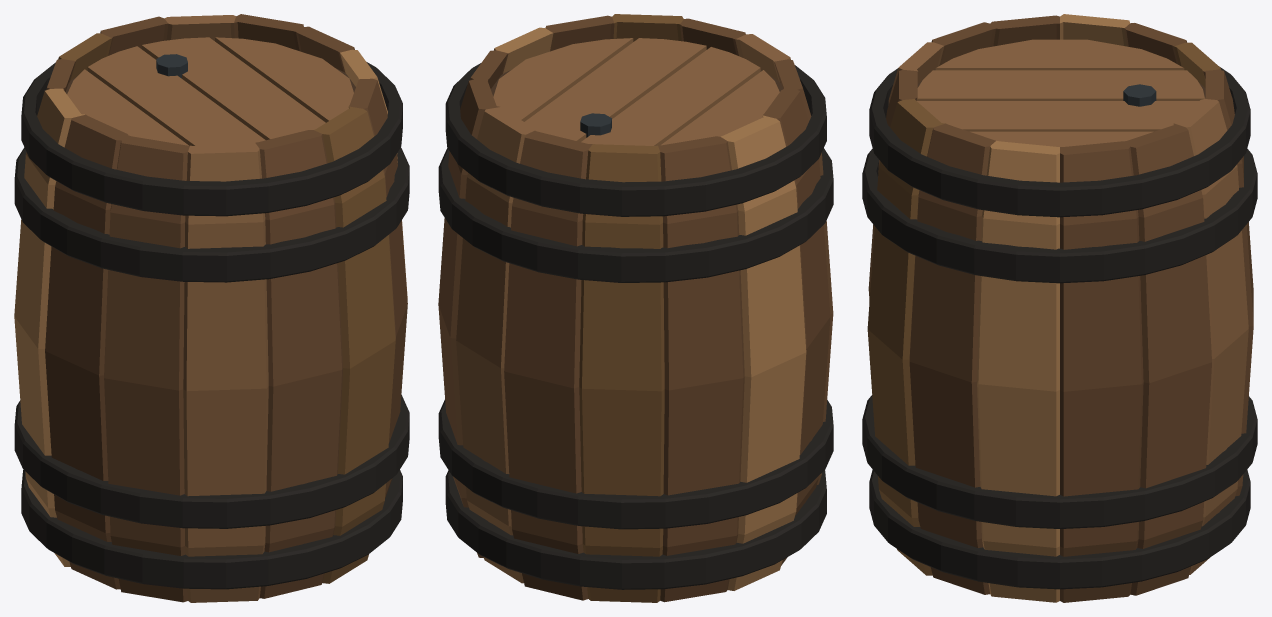
The model's file is mdvl_props_barrel_01.glb.
The picture shows the model from 3 angles, left to right: view 1: azimuth 30°, elevation 25°; view 2: azimuth 150°, elevation 25°; view 3: azimuth 270°, elevation 25°; orthographic projection.
Visible parts, largest first — view 1: mdvl_props_barrel_01; view 2: mdvl_props_barrel_01; view 3: mdvl_props_barrel_01.
Boxes of the visible parts, left/top/right/bottom form: mdvl_props_barrel_01: left=14, top=14, right=409, bottom=602; mdvl_props_barrel_01: left=438, top=14, right=833, bottom=602; mdvl_props_barrel_01: left=862, top=14, right=1257, bottom=602.
Size of the model in its own units: 0.6246 by 0.78 by 0.6236.
Materials: 1 (1 with a texture image).
